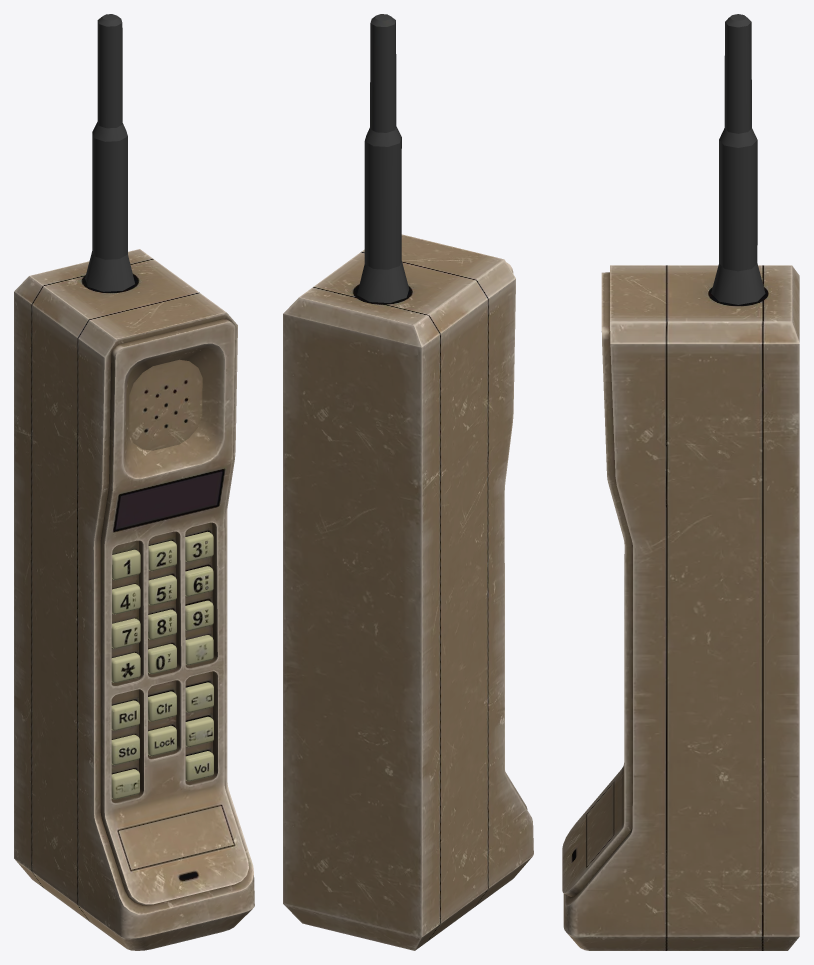
Rendered from mobile-transformed.glb.
3 renders of one model, left to right at view 1: azimuth 30°, elevation 25°; view 2: azimuth 150°, elevation 25°; view 3: azimuth 270°, elevation 25°, orthographic. The views are drawn at different scales.
Visible parts, largest first — view 1: mainM_low, buttonM_low, antM_low; view 2: mainM_low, antM_low; view 3: mainM_low, antM_low.
Part boxes in pixels (x1=…): mainM_low: x1=14, y1=249, x2=254, y2=950; buttonM_low: x1=111, y1=531, x2=213, y2=799; antM_low: x1=85, y1=14, x2=134, y2=291; mainM_low: x1=283, y1=234, x2=533, y2=950; antM_low: x1=357, y1=14, x2=409, y2=302; mainM_low: x1=562, y1=265, x2=799, y2=950; antM_low: x1=711, y1=14, x2=765, y2=304.
Bounding box in the file's own units: 2.8 × 17.37 × 4.13.
Materials: 1 (1 with a texture image).
